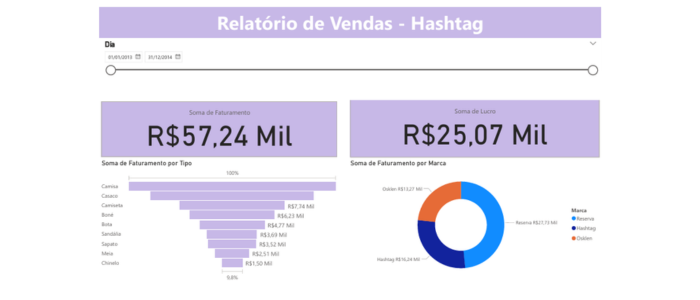

Layout of this report page (visuals, bound fields, positions):
{"tool":"powerbi","page":{"name":"Página 1","canvas":[1280,720],"ordinal":0},"visuals":[{"type":"textbox","box":[0,0,1280,77.6],"z":0},{"type":"cardVisual","fields":{"Data":["Sum(Vendas.Faturamento)"]},"box":[0,235,611.7,151.7],"z":1000},{"type":"cardVisual","fields":{"Data":["Sum(Vendas.Lucro)"]},"box":[635,226.7,645,160],"z":2000},{"type":"funnel","fields":{"Category":["Vendas.Tipo"],"Y":["Sum(Vendas.Faturamento)"]},"box":[0,386.7,611.7,316.7],"z":3000},{"type":"donutChart","fields":{"Category":["Vendas.Marca"],"Y":["Sum(Vendas.Faturamento)"]},"box":[635,386.7,645,316.7],"z":4000},{"type":"slicer","fields":{"Values":["Vendas.Dia"]},"box":[0,78.3,1280,156.7],"z":4001}]}

Visuals, with their boxes on the page's 1280x720 design canvas (x1, y1, x2, y2). These are canvas units, not pixel positions in the 700x300 screenshot, which may show the page scaled, cropped or inside an application window:
textbox: (left=0, top=0, right=1280, bottom=78)
cardVisual - Sum(Vendas.Faturamento): (left=0, top=235, right=612, bottom=387)
cardVisual - Sum(Vendas.Lucro): (left=635, top=227, right=1280, bottom=387)
funnel - Vendas.Tipo x Sum(Vendas.Faturamento): (left=0, top=387, right=612, bottom=703)
donutChart - Vendas.Marca x Sum(Vendas.Faturamento): (left=635, top=387, right=1280, bottom=703)
slicer - Vendas.Dia: (left=0, top=78, right=1280, bottom=235)
